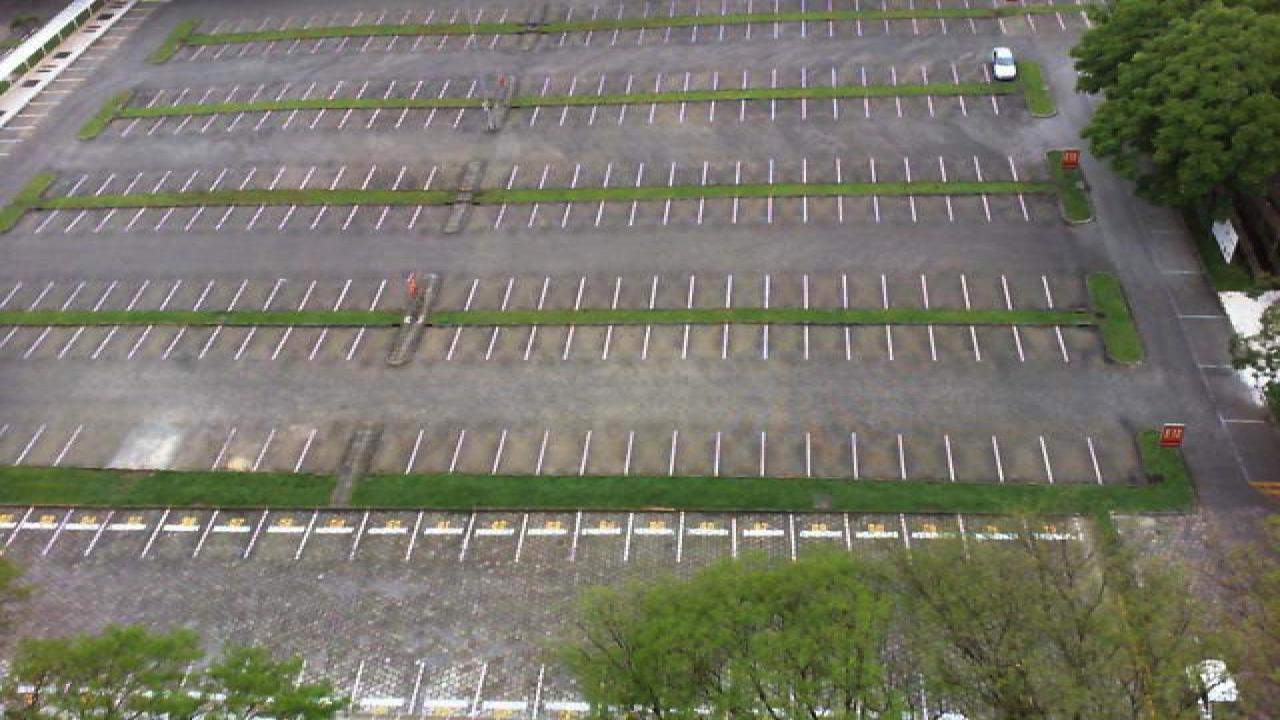Car: (990, 47, 1018, 81)
